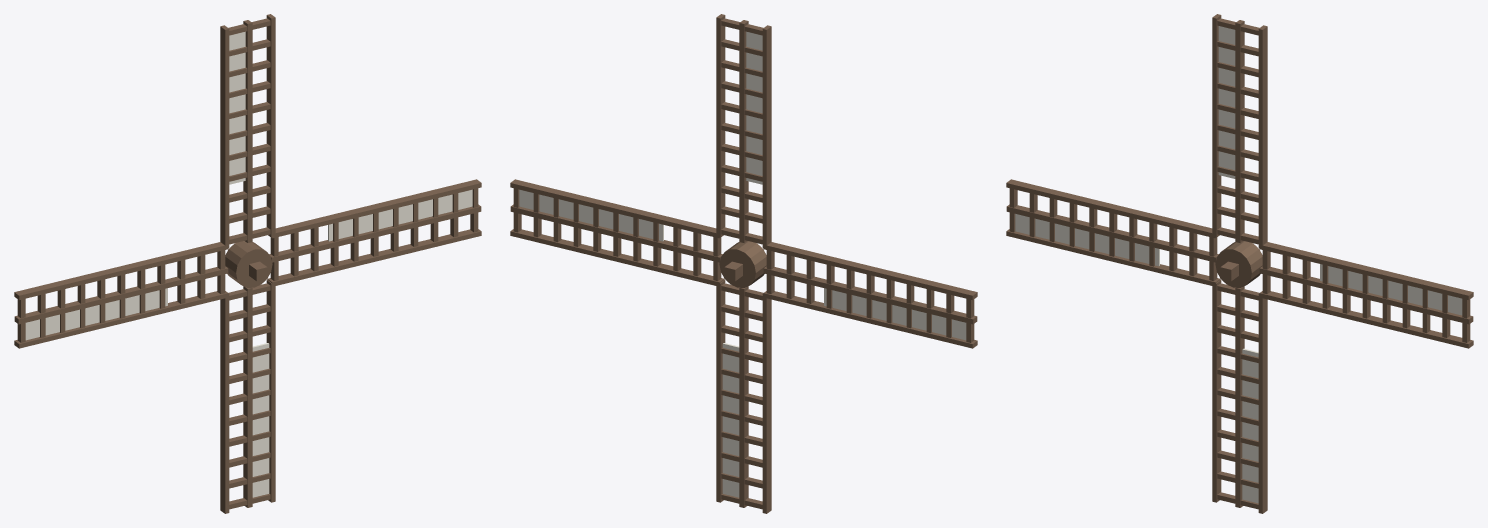
Rendered from sayap_kincir.fbx.
3 renders of one model, left to right at view 1: azimuth 30°, elevation 25°; view 2: azimuth 150°, elevation 25°; view 3: azimuth 330°, elevation 25°, orthographic.
Parts seen in each view (by area): view 1: SayapKayu, SayapKain; view 2: SayapKayu, SayapKain; view 3: SayapKayu, SayapKain.
Boxes of the visible parts, x1,y1,x2,y2 form: SayapKayu: (14,14,481,513); SayapKain: (25,31,472,497); SayapKayu: (510,14,977,513); SayapKain: (519,31,966,497); SayapKayu: (1006,14,1473,513); SayapKain: (1015,26,1462,503).
Bounding box in the file's own units: 38 × 38 × 4.
